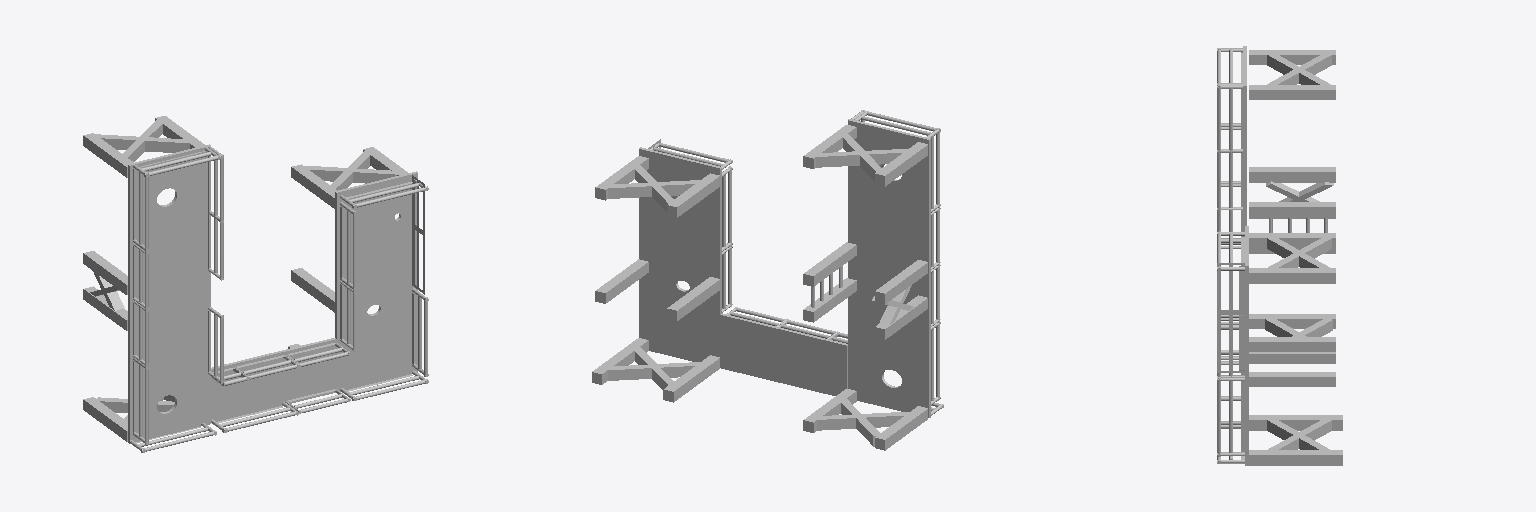
File: platform.obj
The picture shows the model from 3 angles: view 1: azimuth 30°, elevation 25°; view 2: azimuth 150°, elevation 25°; view 3: azimuth 270°, elevation 25°; orthographic projection.
Visible parts, largest first — view 1: obj_0; view 2: obj_0; view 3: obj_0.
Boxes of the visible parts, x1,y1,x2,y2 form: obj_0: [83, 116, 428, 452]; obj_0: [592, 110, 943, 450]; obj_0: [1217, 46, 1342, 465].
Size of the model in its own units: 85 by 78 by 31.8.